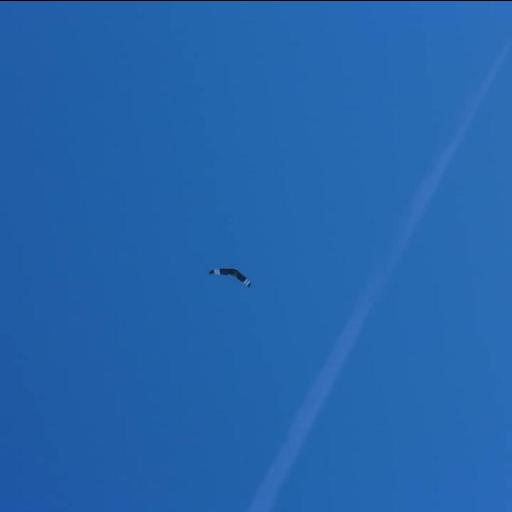uav: (206, 258, 259, 288)
